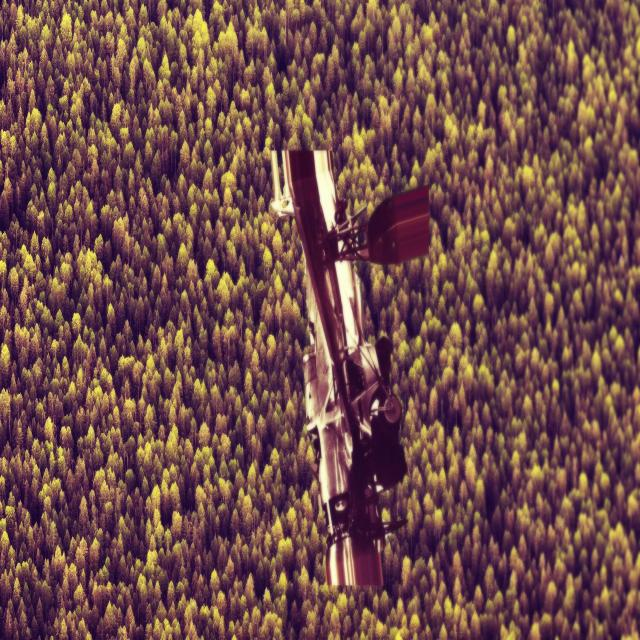airplane: (268, 146, 431, 589)
